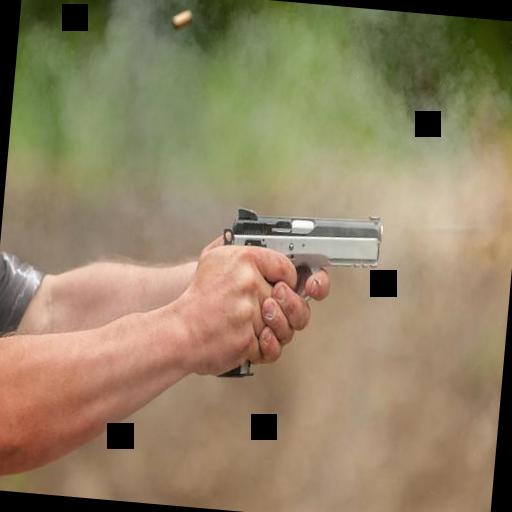Handgun: (208, 198, 388, 389)
